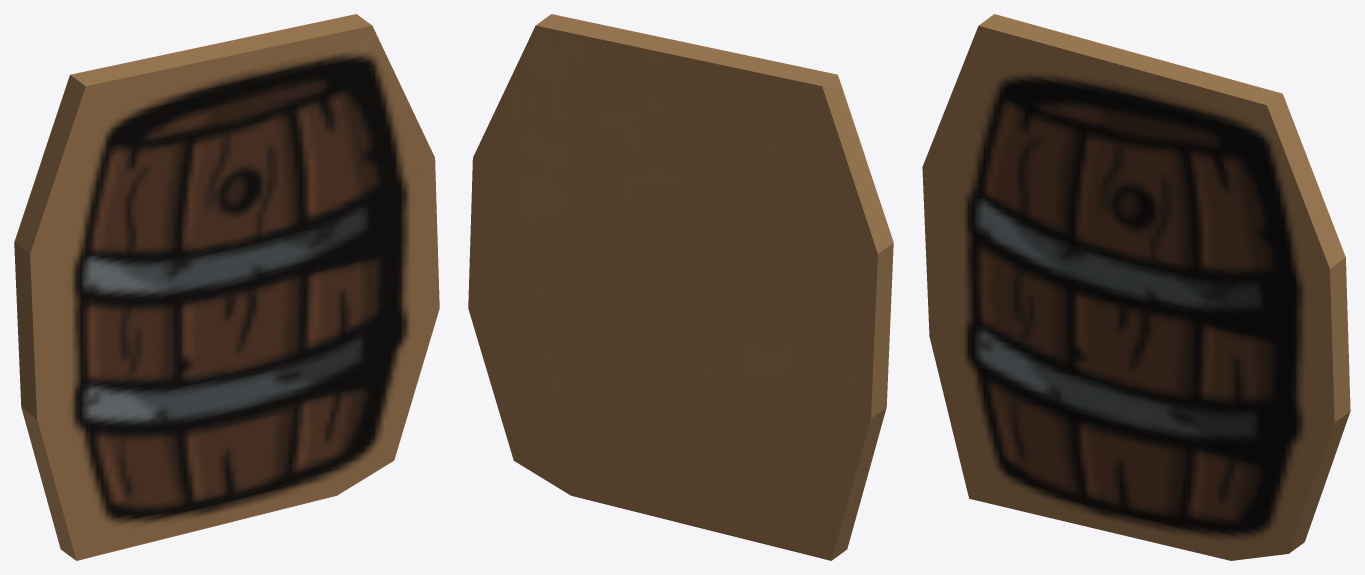
The model's file is SM_Tonneau_VF.fbx.
3 views of the same model, side by side, from view 1: azimuth 30°, elevation 25°; view 2: azimuth 150°, elevation 25°; view 3: azimuth 330°, elevation 25° (orthographic).
Parts seen in each view (by area): view 1: Tonneau; view 2: Tonneau; view 3: Tonneau.
Part boxes in pixels (left/top/right/bottom): Tonneau: left=14, top=14, right=439, bottom=560; Tonneau: left=468, top=14, right=893, bottom=560; Tonneau: left=922, top=14, right=1350, bottom=560.
Size of the model in its own units: 83.58 by 92.11 by 5.59.
